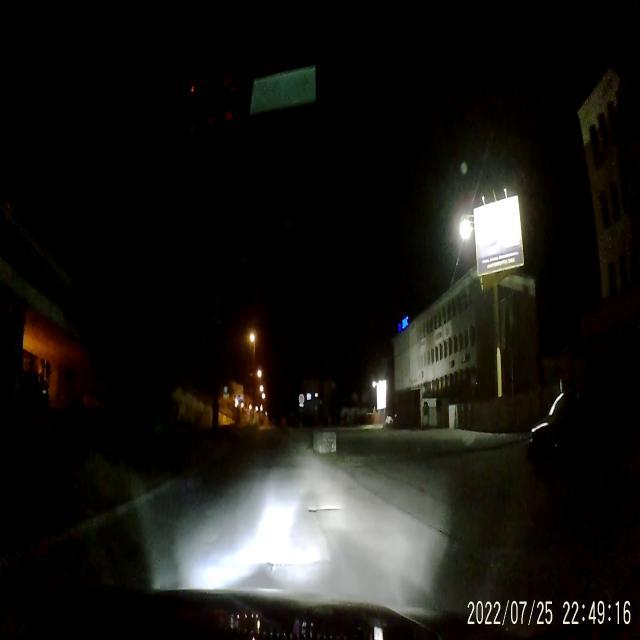Pothole: (308, 503, 342, 517)
